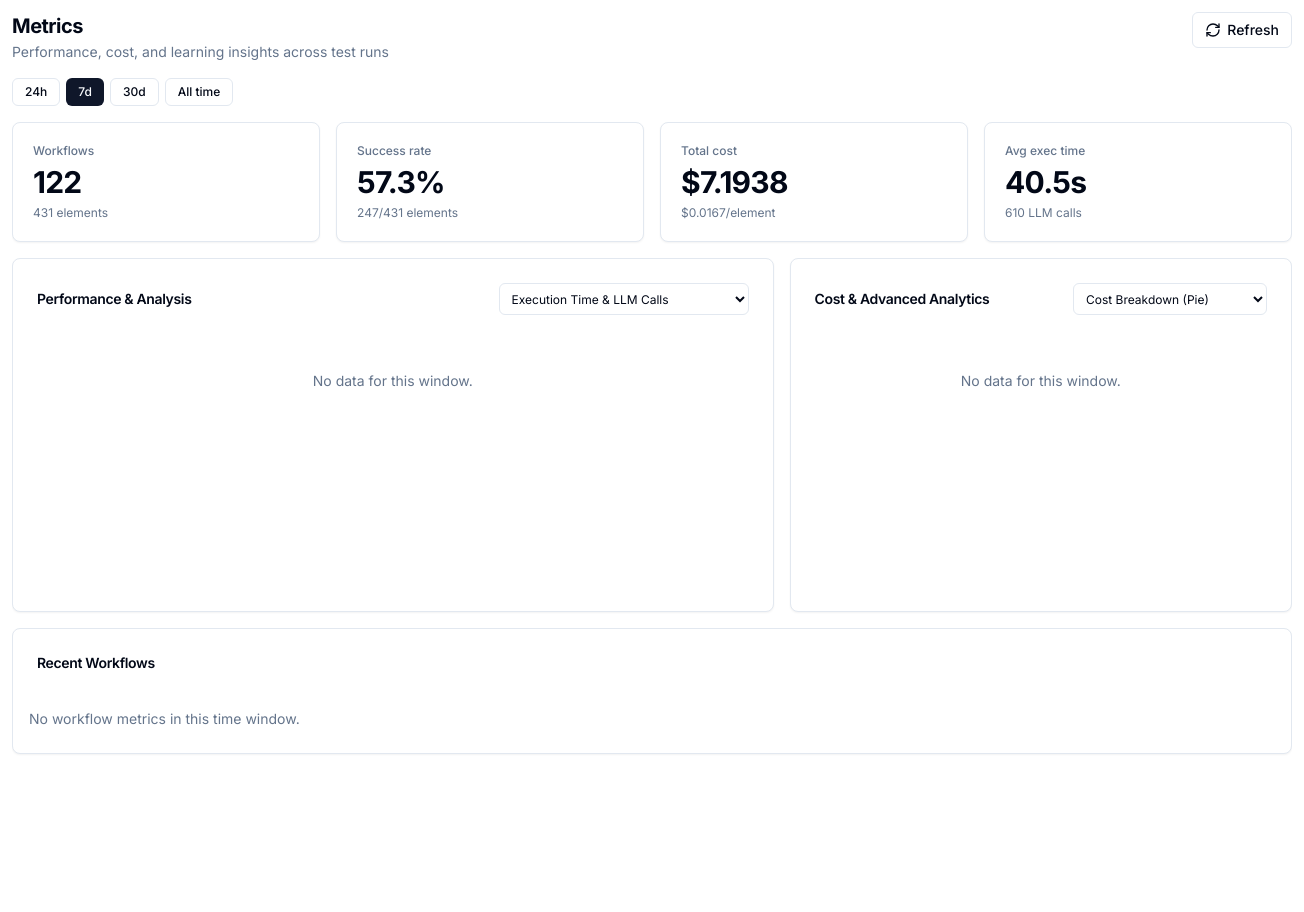
Scenario: MetricsPage — the window filter › applies NO cutoff for All time
This screenshot has width=1304, height=912.
Click the button "All time" at (199, 92), box [165,78,233,106]
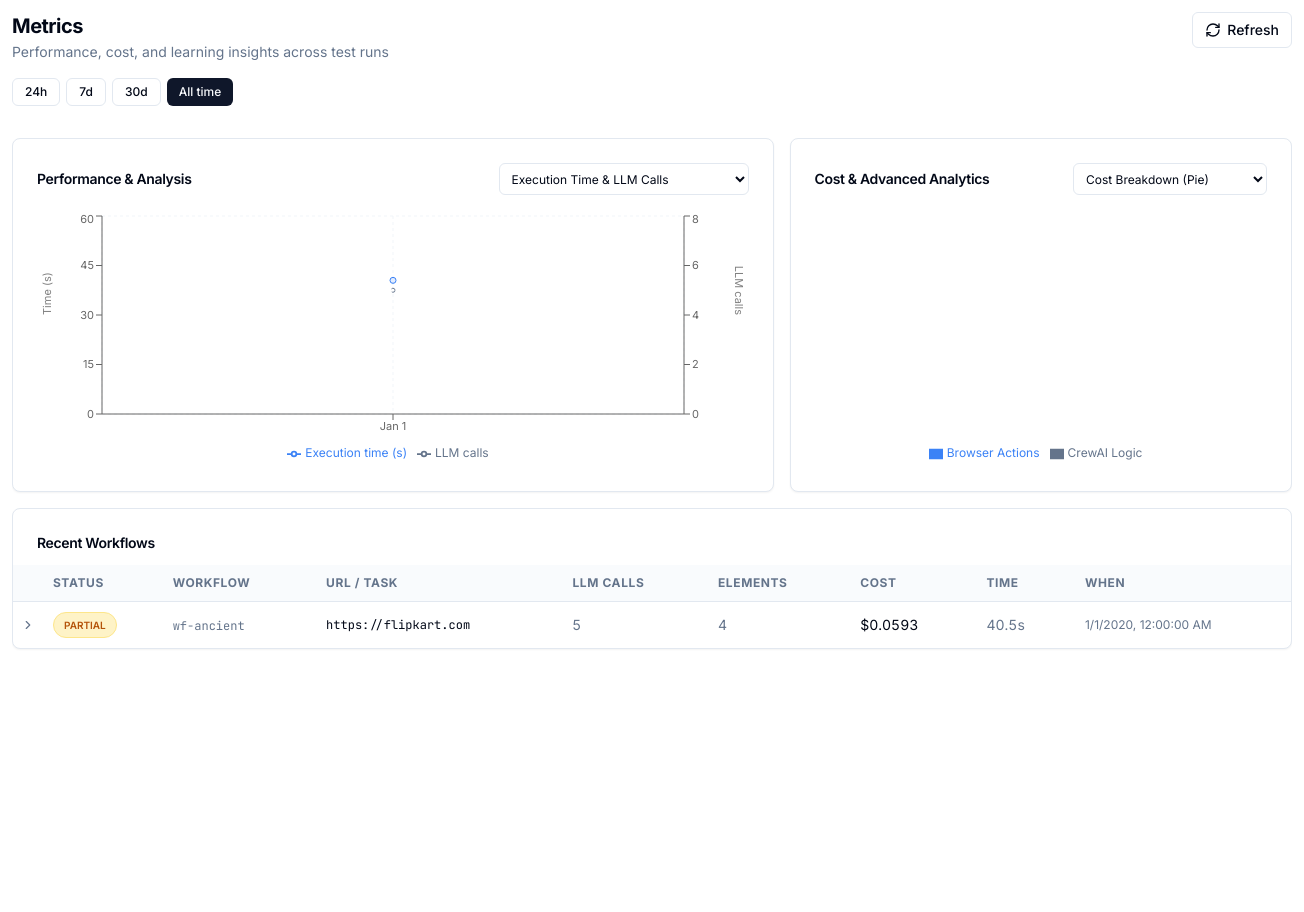
Expected: the text "wf-ancient" is shown, [173,618,245,634]
